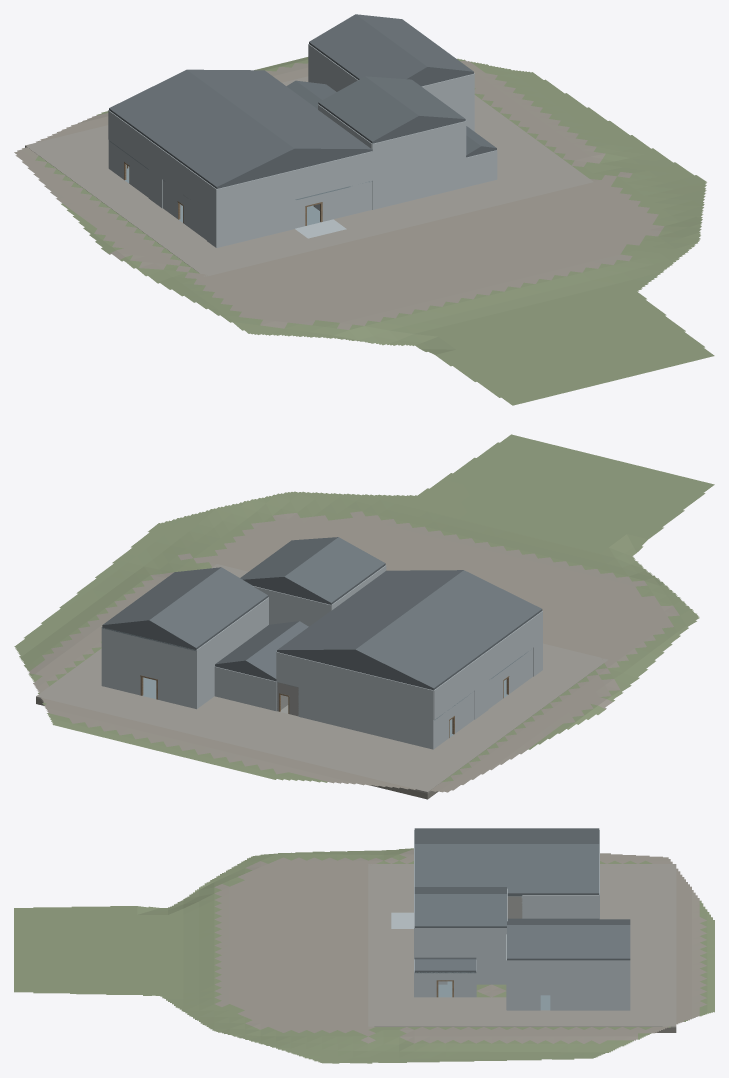
The model's file is assembly-partition.glb.
3 renders of one model, top to bottom at view 1: azimuth 30°, elevation 25°; view 2: azimuth 150°, elevation 25°; view 3: azimuth 270°, elevation 25°, orthographic. The views are drawn at different scales.
Parts seen in each view (by area): view 1: Saved editor geographic earthworks SCHOOL, teaching roof west, SCHOOL south school forecourt pavement region0, teaching roof east, gym roof west, SCHOOL west teaching-room court pavement region0, Wall assembly S, assembly roof west, SCHOOL east receiving and gym service court pavement region0, SCHOOL north school playground pavement region0, Wall library S, Wall class-a-store S (+14 smaller); view 2: Saved editor geographic earthworks SCHOOL, SCHOOL north school playground pavement region0, teaching roof west, teaching roof east, gym roof west, SCHOOL west teaching-room court pavement region0, assembly roof west, Wall science N, Wall class-b N, gym roof east, SCHOOL court-door gym N pier0, SCHOOL court-door gym N end (+19 smaller); view 3: Saved editor geographic earthworks SCHOOL, SCHOOL north school playground pavement region0, teaching roof east, SCHOOL south school forecourt pavement region0, Flat route shell Wall gym E, SCHOOL east receiving and gym service court pavement region0, gym roof east, assembly roof east, teaching roof west, Wall assembly E, Wall wash-a E, Wall wash-b E (+7 smaller).
Boxes of the visible parts, x1,y1,x2,y2 form: Saved editor geographic earthworks SCHOOL: (14,57,714,405); teaching roof west: (109,69,294,188); SCHOOL south school forecourt pavement region0: (178,162,593,276); teaching roof east: (187,69,372,150); gym roof west: (309,14,427,79); SCHOOL west teaching-room court pavement region0: (70,169,215,257); Wall assembly S: (372,121,465,180); assembly roof west: (318,76,418,143); SCHOOL east receiving and gym service court pavement region0: (474,95,566,179); SCHOOL north school playground pavement region0: (25,76,308,178); Wall library S: (216,170,294,218); Wall class-a-store S: (216,200,294,247); Saved editor geographic earthworks SCHOOL: (14,434,714,792); SCHOOL north school playground pavement region0: (36,663,472,793); teaching roof west: (355,570,542,689); teaching roof east: (277,570,463,651); gym roof west: (149,567,268,649); SCHOOL west teaching-room court pavement region0: (434,670,581,758); assembly roof west: (284,537,385,604); Wall science N: (355,701,434,749); Wall class-b N: (355,671,433,719); gym roof east: (102,567,220,626); SCHOOL court-door gym N pier0: (158,641,196,708); SCHOOL court-door gym N end: (103,628,140,695); Saved editor geographic earthworks SCHOOL: (14,848,714,1063); SCHOOL north school playground pavement region0: (599,864,676,1027); teaching roof east: (414,844,599,894); SCHOOL south school forecourt pavement region0: (368,864,414,1026); Flat route shell Wall gym E: (507,960,630,1010); SCHOOL east receiving and gym service court pavement region0: (414,997,599,1026); gym roof east: (507,925,630,959); assembly roof east: (414,894,506,927); teaching roof west: (414,828,599,843); Wall assembly E: (414,928,506,959); Wall wash-a E: (561,895,599,918); Wall wash-b E: (522,895,560,918).
Bounding box in the file's own units: 67 × 13.44 × 91.
35 materials, 21 textured.
